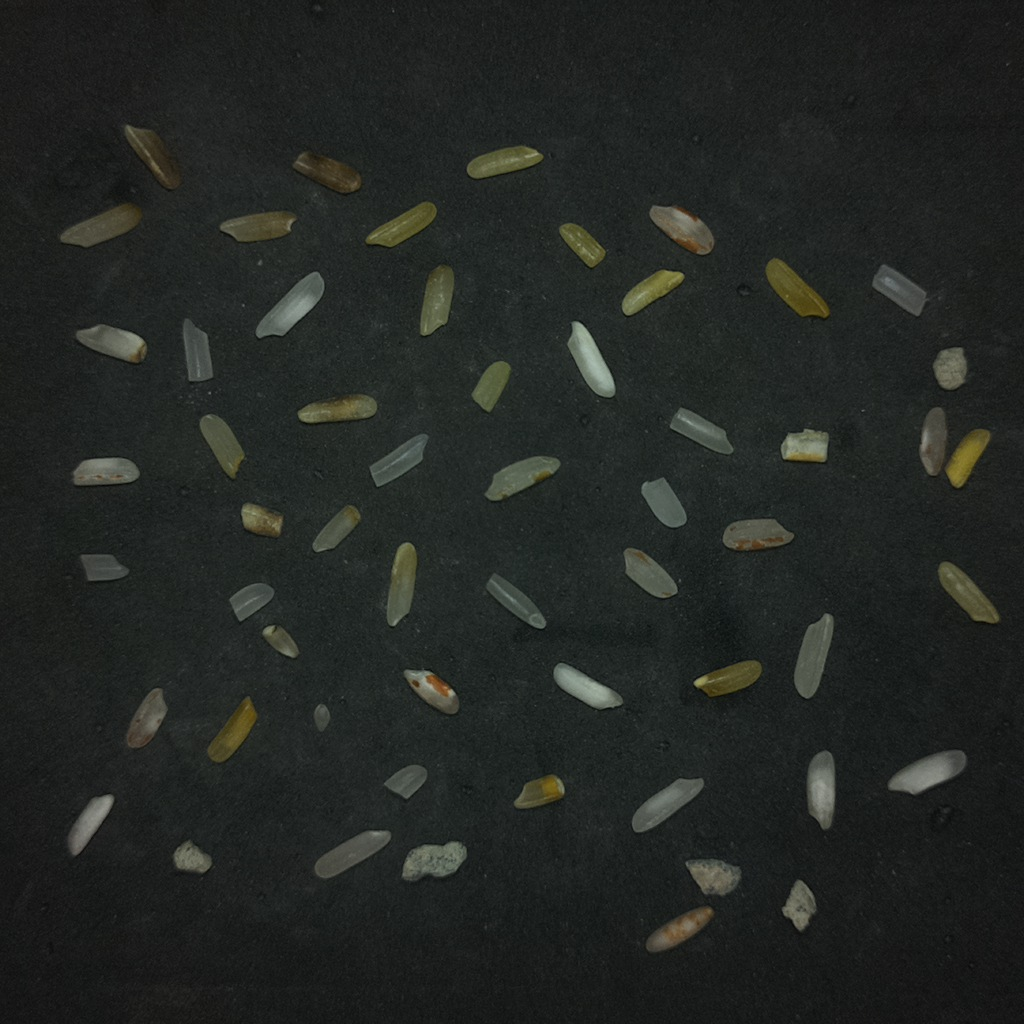broken: (938, 561, 999, 623), (872, 264, 926, 315), (386, 542, 417, 626), (641, 478, 686, 527), (182, 319, 212, 381), (229, 582, 274, 621), (383, 764, 427, 799), (79, 554, 128, 581), (313, 704, 330, 732)
chalky: (255, 271, 324, 338), (567, 321, 615, 397), (887, 750, 966, 795), (553, 663, 622, 709), (67, 794, 114, 856), (806, 751, 835, 829)
damaged: (123, 124, 181, 189), (59, 204, 141, 247), (485, 456, 560, 500), (199, 414, 244, 478), (293, 151, 361, 193), (75, 324, 146, 363), (219, 211, 296, 242), (297, 394, 377, 423), (312, 505, 360, 552), (514, 774, 563, 808), (781, 429, 828, 462), (241, 502, 283, 537), (261, 624, 298, 658)
discolored: (765, 258, 829, 317), (365, 201, 436, 247), (207, 697, 256, 762), (621, 269, 684, 316), (945, 429, 990, 488), (467, 145, 542, 179), (419, 264, 454, 335), (693, 660, 762, 696), (559, 223, 605, 267), (471, 361, 510, 412)
foreign: (404, 841, 466, 879), (685, 859, 741, 895), (782, 879, 816, 931), (933, 347, 967, 390), (174, 840, 212, 874)
red: (649, 205, 713, 254), (645, 906, 713, 952), (624, 548, 677, 598), (126, 687, 167, 748), (404, 670, 458, 714), (722, 518, 794, 550), (919, 407, 947, 476), (73, 457, 139, 485)
whole: (631, 778, 703, 832), (314, 830, 391, 878), (794, 614, 833, 698), (486, 574, 545, 628), (370, 434, 428, 486), (670, 407, 733, 454)
